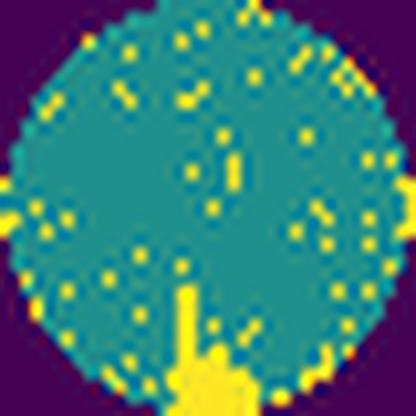Edge-Loc: (166, 285, 259, 416)
